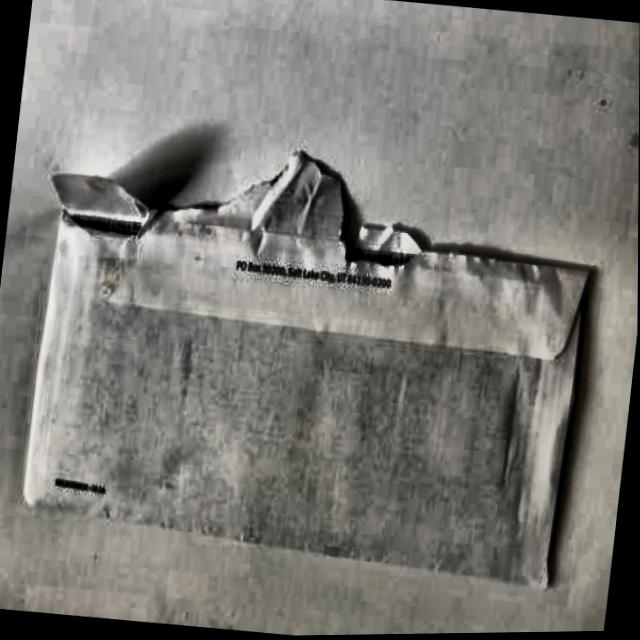Paper: (6, 102, 612, 609)
